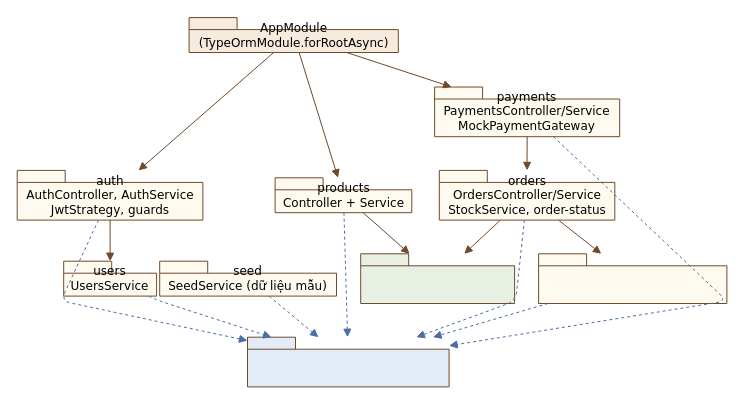
This 753x405 diagram has some shape labels left out. The box of each missing label's shape, as (x1, y1, x2, y2) in pixels:
common catalog (size/topping) current-user, db-errors: (360, 253, 515, 304)
entities User · Product · Order OrderItem · Payment · Coupon: (246, 336, 449, 387)
promotions PromotionsService computeDiscount, pointsFor: (538, 253, 727, 304)
